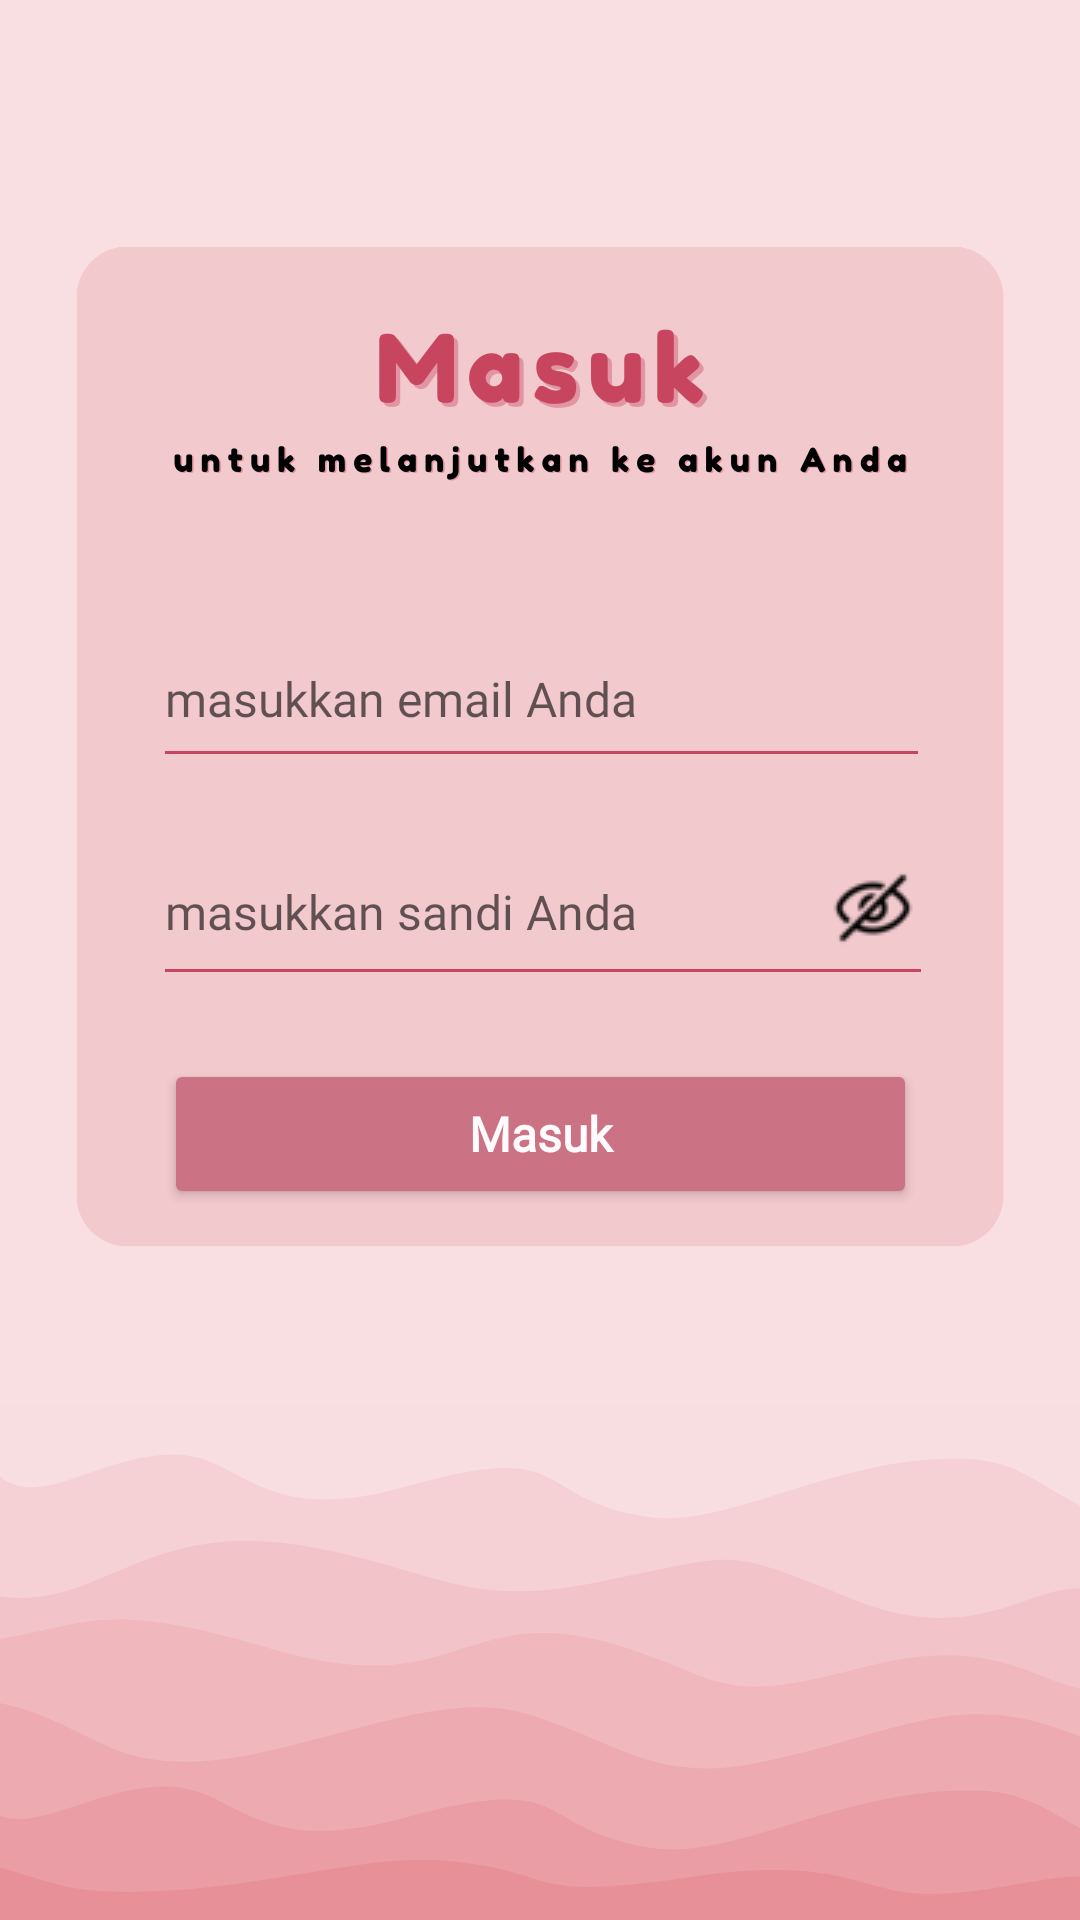

Named icons in this screenshot (1080px x 1920px) and their bounding boxes, {"x1": x1, "y1": y1, "x2": x2, "y2": y2}:
Show/Hide Password: {"x1": 834, "y1": 874, "x2": 912, "y2": 942}
